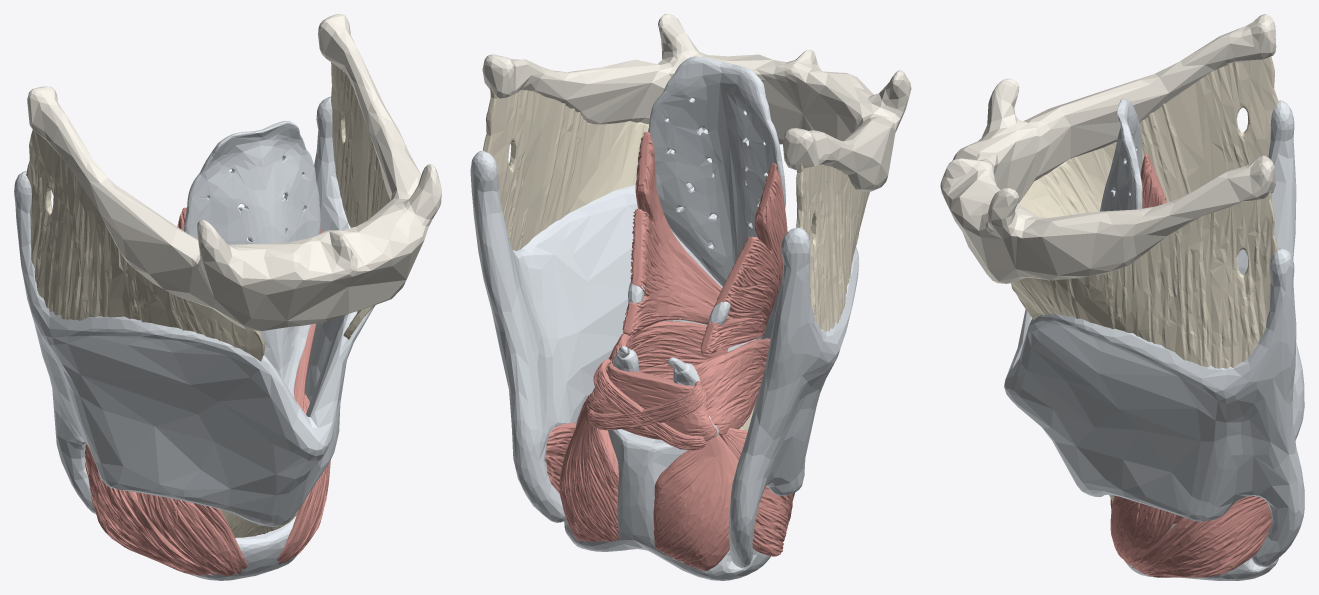
Rendered from larynx-real.glb.
3 views of the same model, side by side, from view 1: azimuth 30°, elevation 25°; view 2: azimuth 150°, elevation 25°; view 3: azimuth 270°, elevation 25° (orthographic). The views are drawn at different scales.
Parts seen in each view (by area): view 1: thyroid-cartilage, hyoid-bone, thyrohyoid-membrane, epiglottis, cricothyroid-muscle, cricoid-cartilage, thyroarytenoid-muscle; view 2: thyroid-cartilage, thyroarytenoid-muscle, hyoid-bone, thyrohyoid-membrane, epiglottis, posterior-cricoarytenoid-muscle, cricoid-cartilage, oblique-arytenoid-muscle, transverse-arytenoid-muscle, cricothyroid-muscle, arytenoid-cartilage, cuneiform-cartilage (+1 smaller); view 3: thyroid-cartilage, thyrohyoid-membrane, hyoid-bone, cricothyroid-muscle, epiglottis, cricoid-cartilage, thyroarytenoid-muscle.
Part boxes in pixels (left/top/right/bottom): thyroid-cartilage: left=14, top=96, right=375, bottom=526; hyoid-bone: left=27, top=14, right=441, bottom=331; thyrohyoid-membrane: left=26, top=62, right=390, bottom=361; epiglottis: left=184, top=121, right=320, bottom=397; cricothyroid-muscle: left=85, top=444, right=330, bottom=576; cricoid-cartilage: left=136, top=492, right=298, bottom=580; thyroarytenoid-muscle: left=177, top=207, right=320, bottom=414; thyroid-cartilage: left=470, top=150, right=859, bottom=568; thyroarytenoid-muscle: left=592, top=131, right=787, bottom=435; hyoid-bone: left=482, top=14, right=911, bottom=191; thyrohyoid-membrane: left=483, top=87, right=869, bottom=332; epiglottis: left=648, top=56, right=785, bottom=287; posterior-cricoarytenoid-muscle: left=559, top=409, right=738, bottom=570; cricoid-cartilage: left=564, top=429, right=770, bottom=580; oblique-arytenoid-muscle: left=588, top=358, right=707, bottom=450; transverse-arytenoid-muscle: left=586, top=363, right=717, bottom=440; cricothyroid-muscle: left=545, top=422, right=794, bottom=556; arytenoid-cartilage: left=613, top=349, right=718, bottom=437; cuneiform-cartilage: left=628, top=281, right=730, bottom=324; thyroid-cartilage: left=1004, top=100, right=1304, bottom=566; thyrohyoid-membrane: left=1010, top=56, right=1278, bottom=368; hyoid-bone: left=940, top=14, right=1276, bottom=283; cricothyroid-muscle: left=1110, top=495, right=1271, bottom=577; epiglottis: left=1100, top=98, right=1142, bottom=211; cricoid-cartilage: left=1110, top=519, right=1278, bottom=580; thyroarytenoid-muscle: left=1140, top=153, right=1166, bottom=208.
Size of the model in its own units: 1.37 by 1.9 by 1.33.
